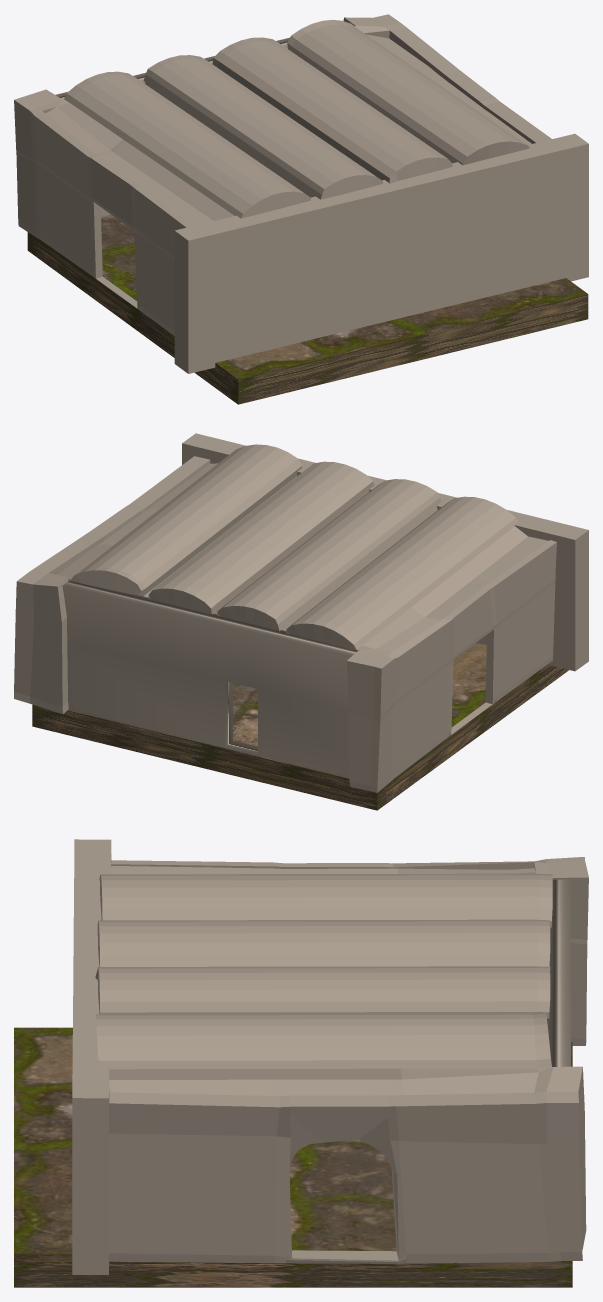
File: Abadia entrada.fbx
3 renders of one model, top to bottom at view 1: azimuth 30°, elevation 25°; view 2: azimuth 150°, elevation 25°; view 3: azimuth 270°, elevation 25°, orthographic. The views are drawn at different scales.
Parts seen in each view (by area): view 1: Cubo.020, Cubo.018, Cubo.021; view 2: Cubo.020, Cubo.019, Cubo.021, Cubo.018; view 3: Cubo.020, Cubo.021, Cubo.018, Cubo.019.
Boxes of the visible parts, box(x1,y1,x2,y2) form: Cubo.020: box(14, 14, 551, 335); Cubo.018: box(174, 133, 588, 373); Cubo.021: box(27, 215, 588, 404); Cubo.020: box(14, 444, 556, 792); Cubo.019: box(62, 581, 357, 778); Cubo.021: box(32, 642, 568, 810); Cubo.018: box(182, 433, 588, 671); Cubo.020: box(95, 857, 588, 1263); Cubo.021: box(14, 1027, 572, 1287); Cubo.018: box(72, 839, 111, 1274); Cubo.019: box(547, 879, 570, 1066).
Bounding box in the file's own units: 53013 × 21435 × 49794.
